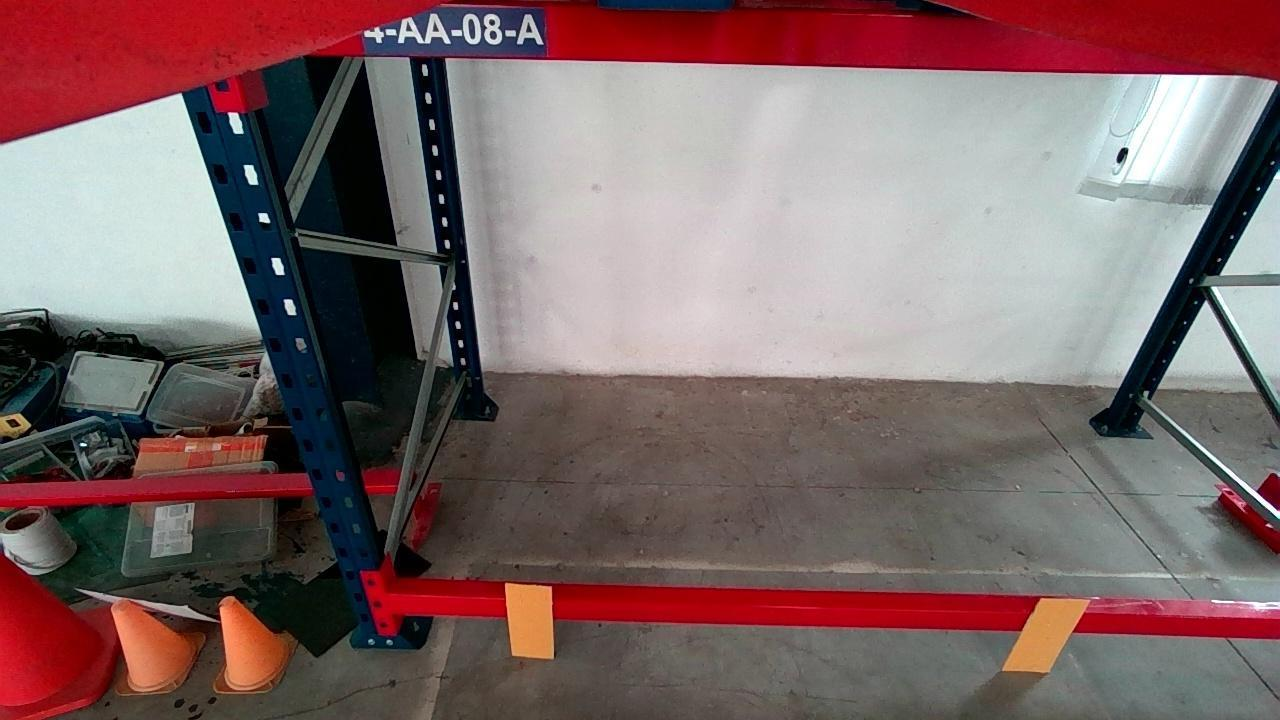h_rack: (306, 3, 1241, 71), (389, 590, 1280, 637)
orange_strip: (1006, 598, 1090, 670), (503, 582, 554, 657)
